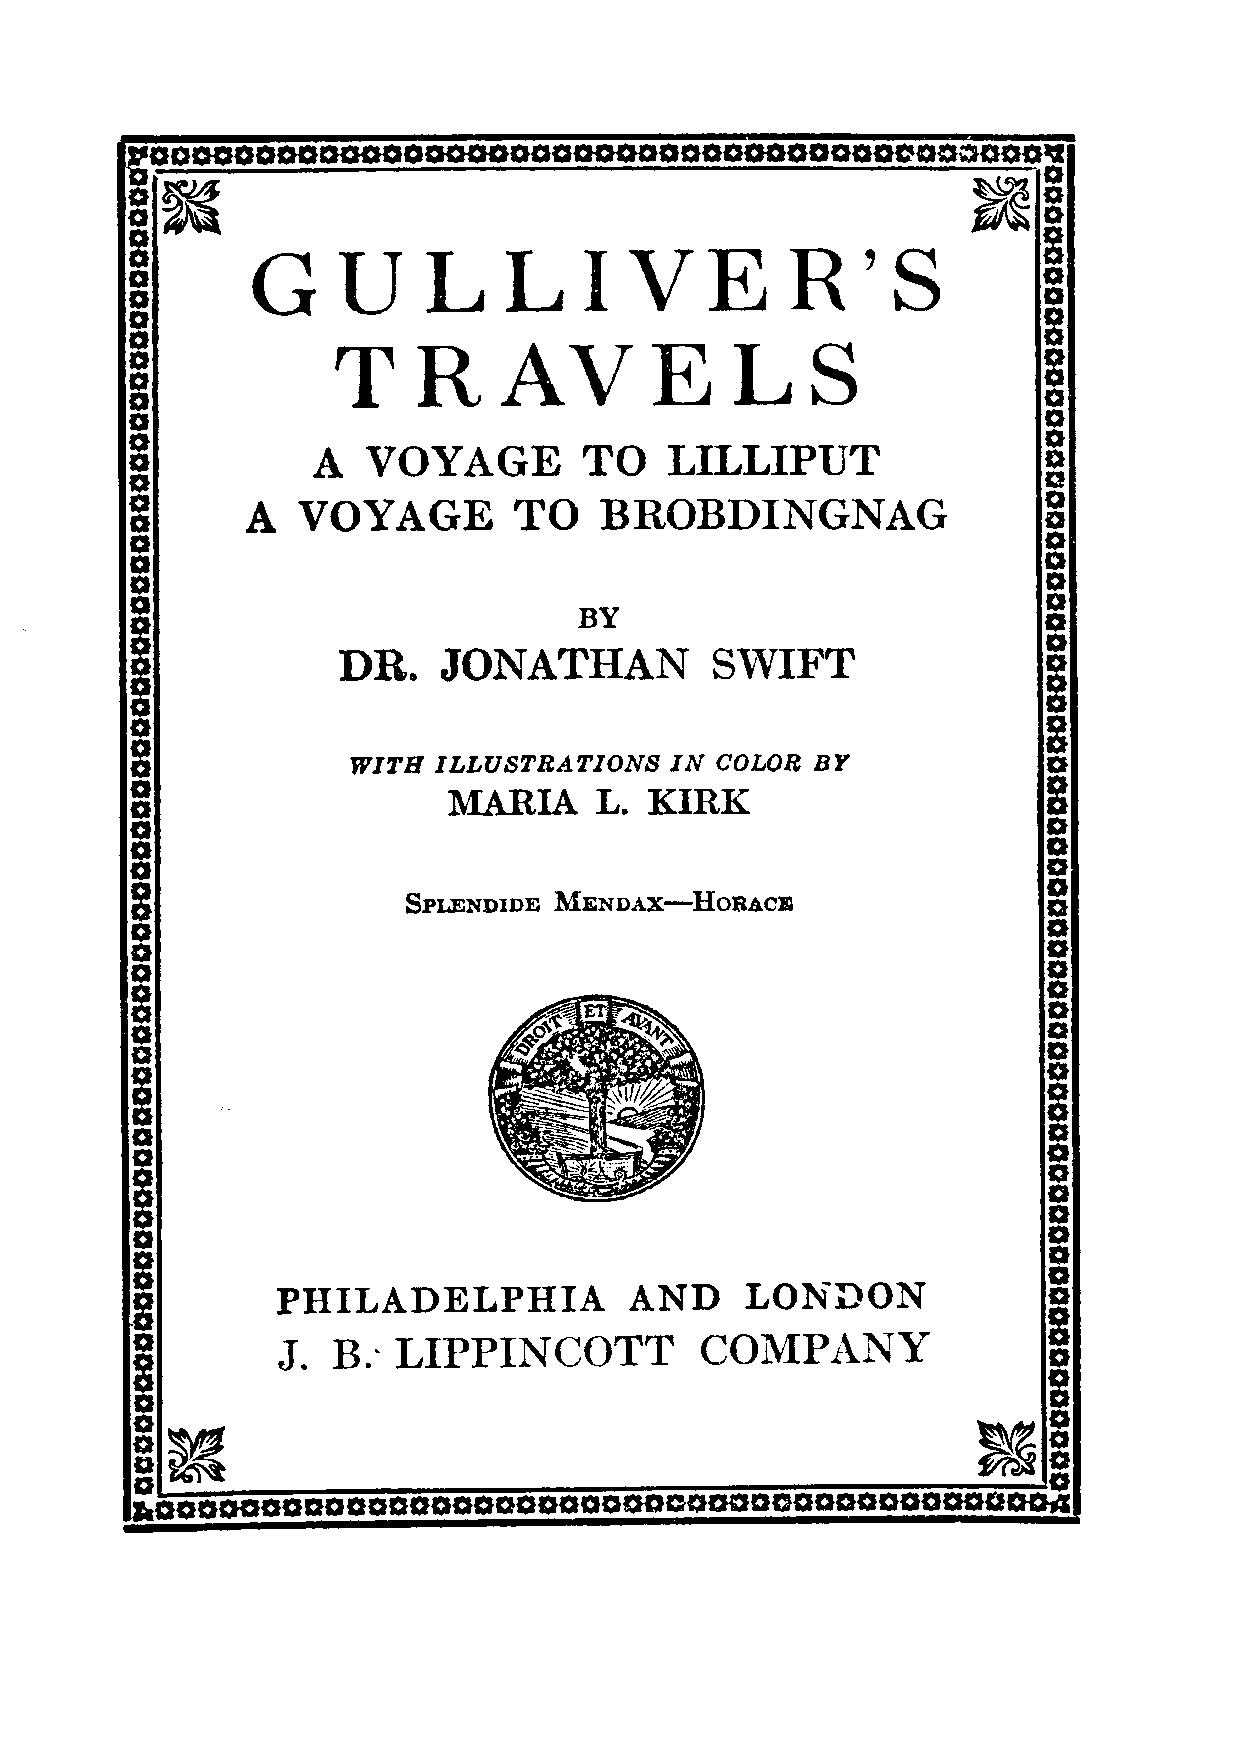author: (331, 603, 856, 687)
title: (246, 246, 941, 411)
